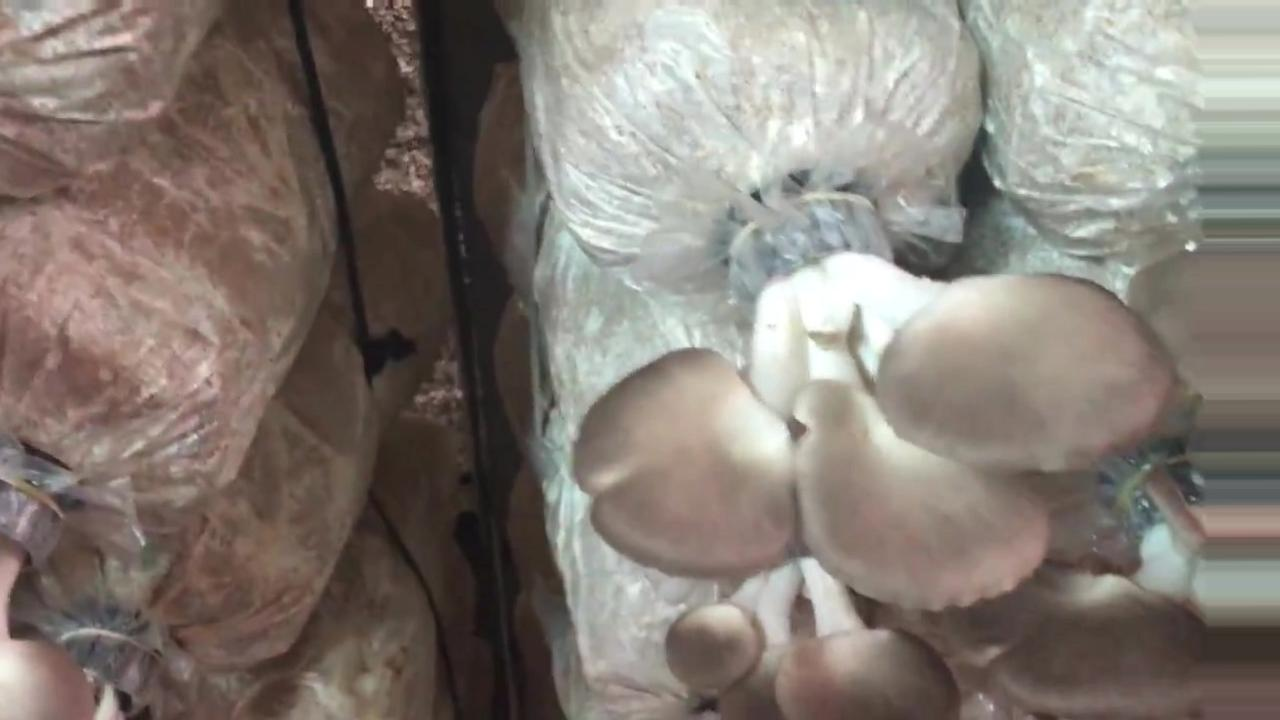nam: (578, 198, 1167, 609), (952, 449, 1196, 720), (664, 556, 954, 720), (1130, 253, 1280, 401)
